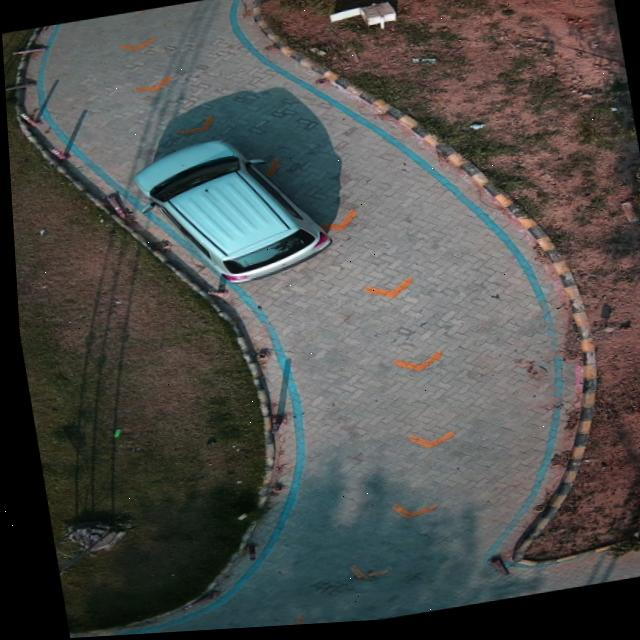car: (133, 142, 327, 285)
